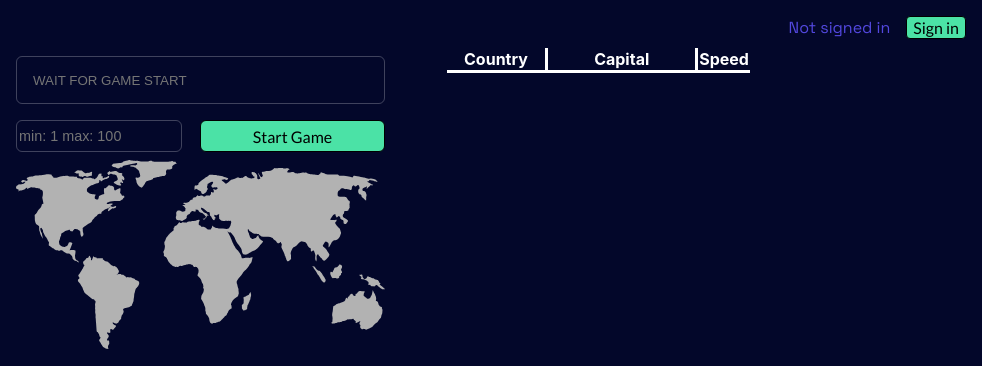
Test case: Show time spent in the table after answer the right answer
The image size is (982, 366).
// start the game
Click the button "Start Game": [292, 136] box [200,120,385,152]
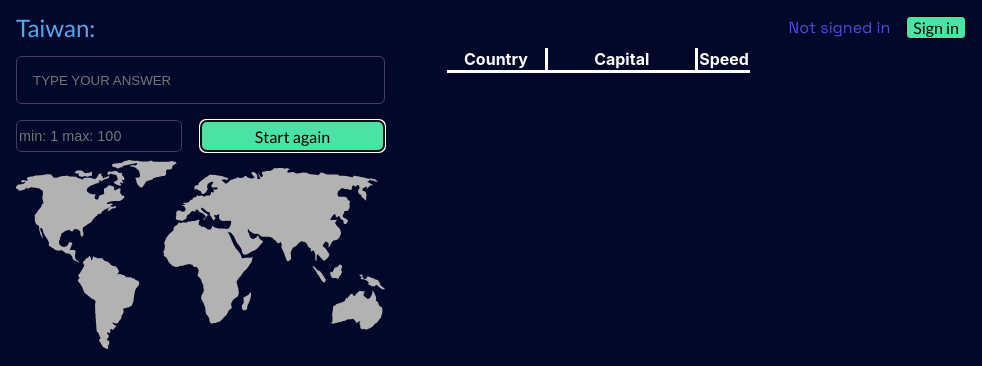
// simulate user's typying time, delay between each character
In the field with test id "answer-input": [200, 80] box [16,56,385,104], type "Taipei"
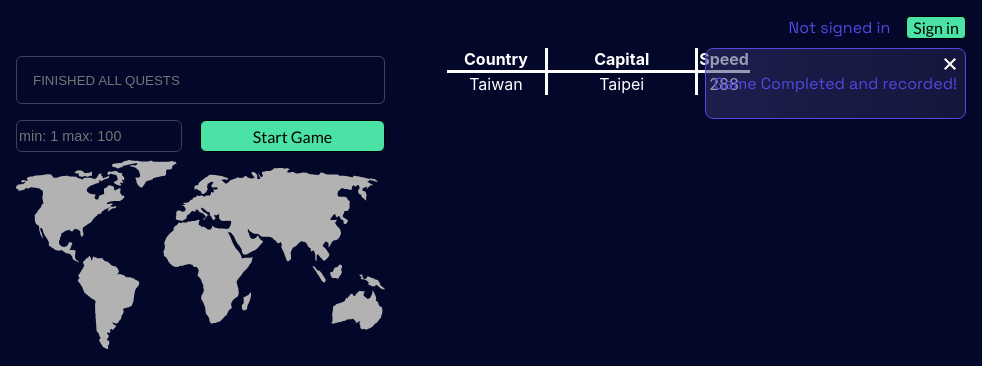
Expected: the element with test id "Taiwan-col3-record" does not show "0"
Result: the cell with test id "Taiwan-col1-record" reads "Taiwan" at [469,74,523,94]
Result: the cell with test id "Taiwan-col2-record" reads "Taipei" at [599,74,644,94]
